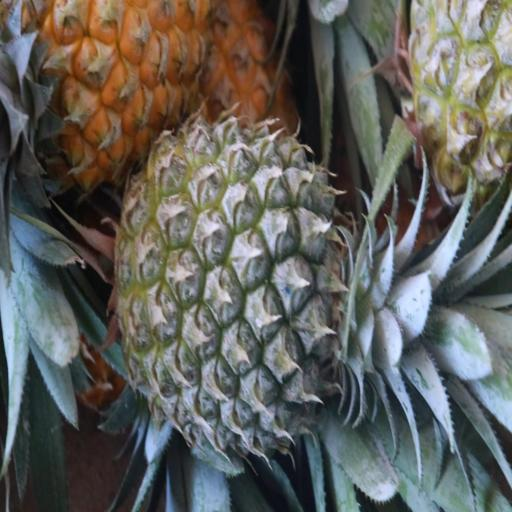Pineapple - v8 v1: (11, 0, 208, 187)
